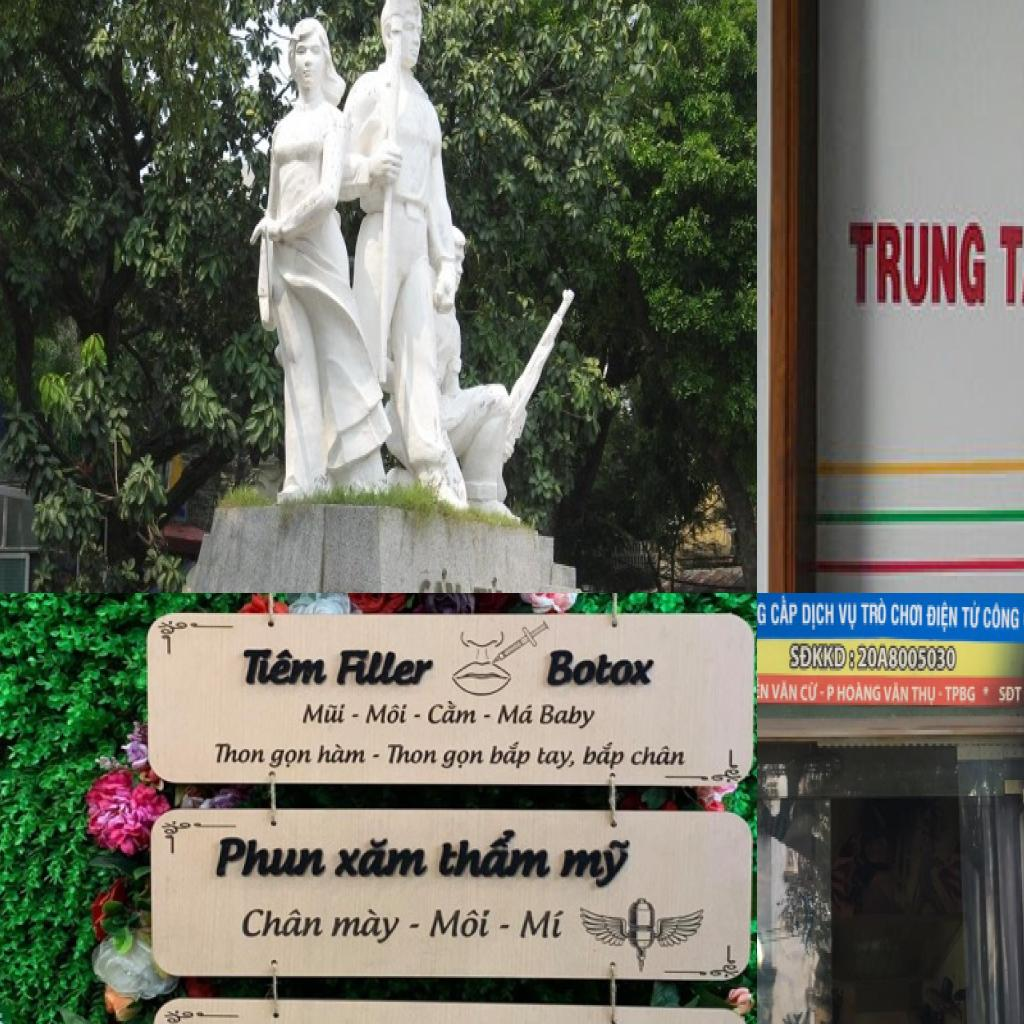text: (846, 219, 990, 313), (436, 829, 553, 882), (215, 835, 332, 882), (545, 646, 666, 690), (559, 837, 639, 893), (336, 648, 442, 688), (336, 837, 434, 880), (239, 647, 334, 688), (330, 908, 414, 950), (994, 204, 1024, 317), (857, 644, 958, 676), (238, 907, 328, 941), (426, 906, 494, 941), (788, 641, 856, 673), (540, 702, 599, 734), (582, 738, 630, 773), (428, 696, 481, 727), (488, 739, 534, 773), (521, 909, 569, 941), (262, 746, 316, 774), (534, 744, 582, 775), (212, 741, 268, 767), (630, 743, 688, 768), (385, 742, 442, 766), (300, 699, 351, 725), (418, 566, 466, 593), (438, 748, 487, 774), (364, 701, 412, 727), (316, 742, 367, 766), (496, 700, 538, 728), (926, 600, 960, 634), (800, 600, 836, 632), (838, 680, 882, 705), (982, 602, 1021, 630), (891, 602, 925, 630), (770, 596, 798, 628), (860, 596, 888, 628), (945, 682, 977, 705), (910, 684, 938, 710), (960, 598, 982, 630), (882, 680, 910, 705), (471, 573, 505, 593), (771, 678, 799, 702), (799, 678, 821, 707), (838, 603, 858, 632), (996, 684, 1024, 704), (757, 673, 771, 702), (825, 682, 836, 705), (757, 602, 767, 627)
